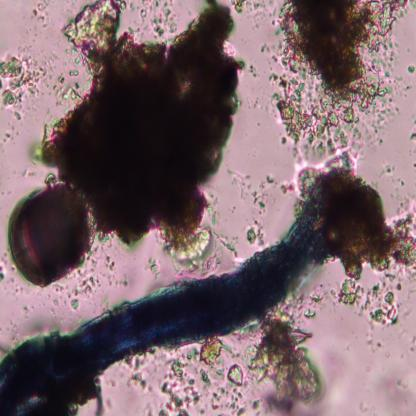Background material: (33, 1, 249, 267), (269, 0, 416, 182), (320, 164, 416, 280), (247, 311, 326, 415), (163, 342, 262, 415), (0, 45, 45, 118), (336, 276, 398, 326), (230, 173, 274, 211), (49, 61, 84, 108), (379, 367, 413, 413), (17, 1, 55, 39), (96, 248, 129, 291), (320, 340, 350, 386), (144, 0, 180, 37), (48, 286, 84, 318), (124, 354, 154, 391), (0, 121, 23, 159), (243, 220, 266, 248), (247, 1, 269, 23), (144, 257, 162, 282), (249, 60, 259, 78), (406, 65, 416, 74)
Cotton: (0, 201, 329, 412)
Diatom: (9, 183, 94, 289)
